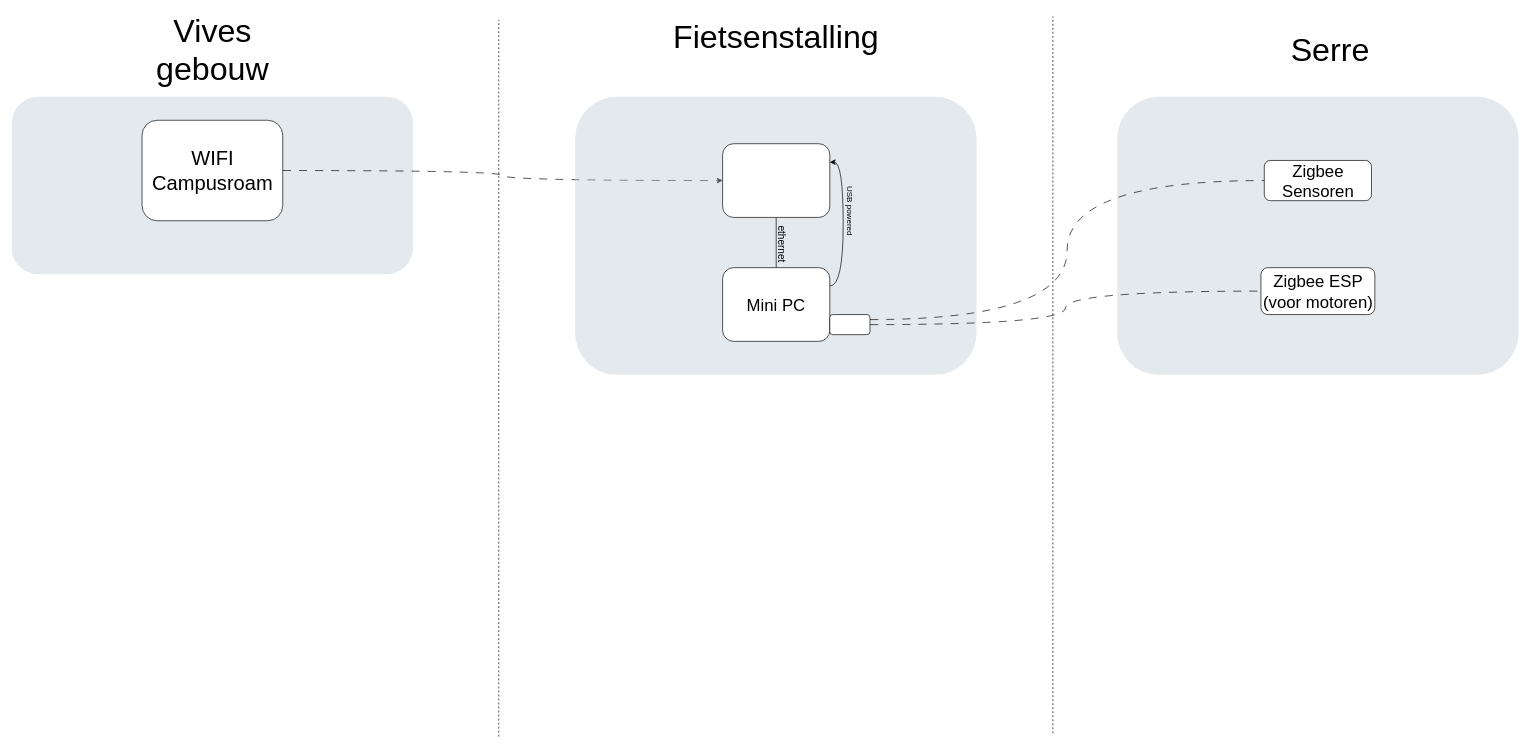
Some shapes in this 1530 by 749 pixel diagram are drawn without their labels. Each missing label, with the centre of its shape:
"Raspberry Pi" belongs at pixel 776 180.
"ZIGBEE DONGLE" belongs at pixel 849 324.
